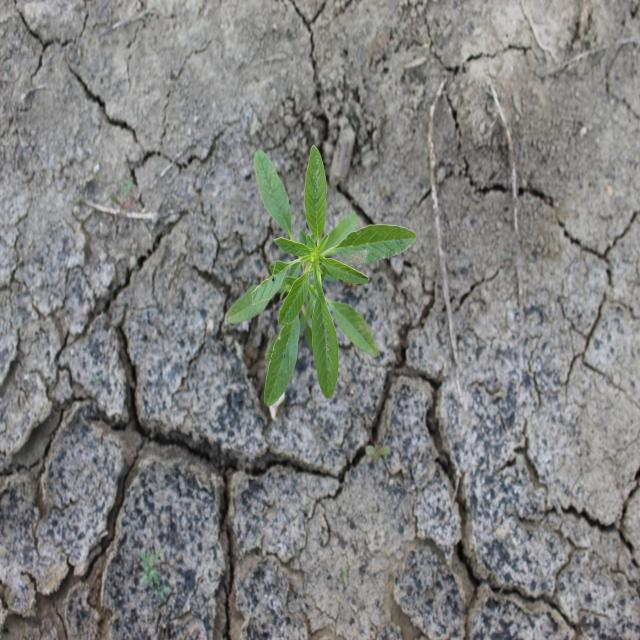Waterhemp: (222, 143, 418, 409)
